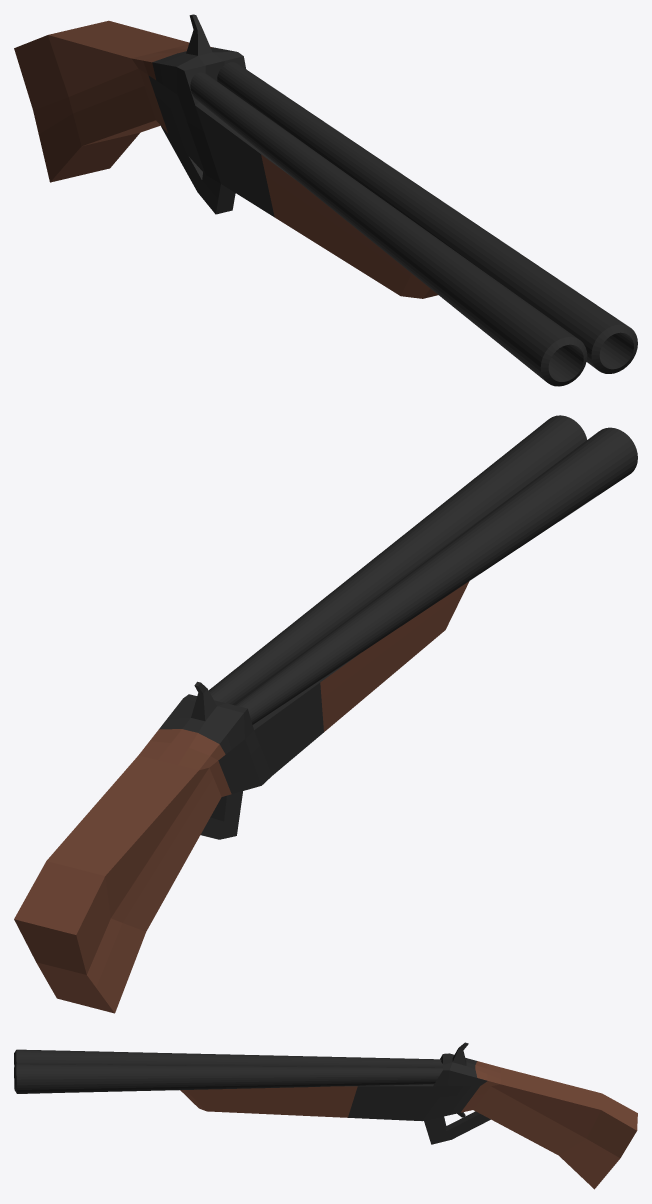
Rendered from double-barrel-shotgun-by-portomat-Iyq2t9VXua.glb.
3 views of the same model, one above another, from view 1: azimuth 30°, elevation 25°; view 2: azimuth 150°, elevation 25°; view 3: azimuth 270°, elevation 25° (orthographic). The views are drawn at different scales.
Visible parts, largest first — view 1: Cube; view 2: Cube; view 3: Cube.
Part boxes in pixels (left/top/right/bottom): Cube: left=14, top=14, right=637, bottom=386; Cube: left=14, top=415, right=637, bottom=1013; Cube: left=14, top=1042, right=637, bottom=1189.
Bounding box in the file's own units: 0.9877 × 2.37 × 9.67.
